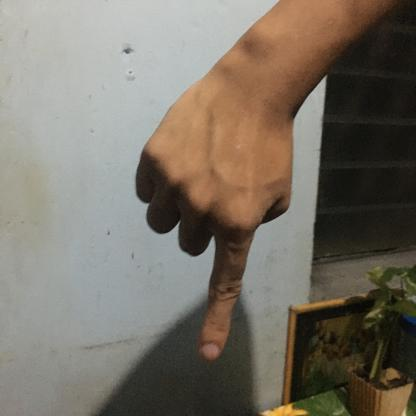here: (131, 41, 313, 367)
